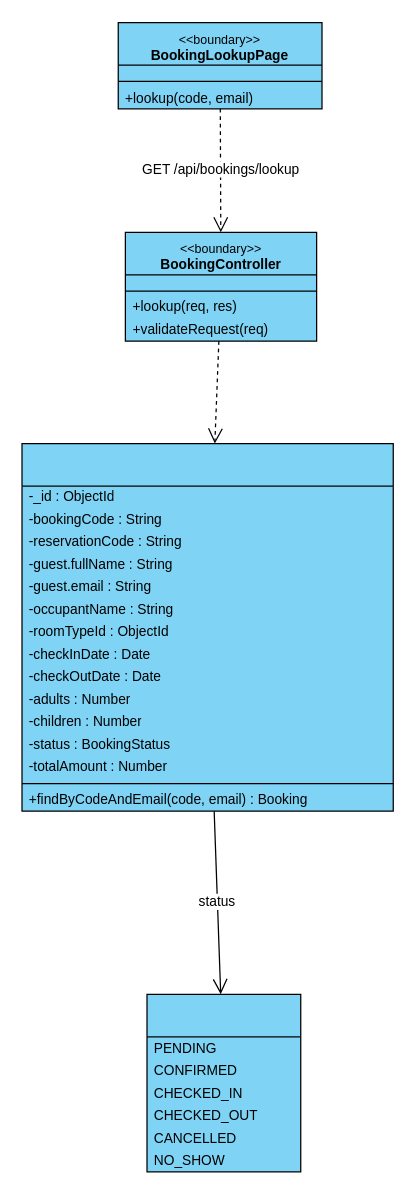
This 415x1194 diagram has some shape labels left out. The shapes that lost their labels are listed below. From the top down, each one's box as (x1, y1, x2, y2) in pixels, then its label:
(21, 442, 393, 811): <<entity>> Booking
(146, 993, 301, 1172): <<enumeration>> BookingStatus
